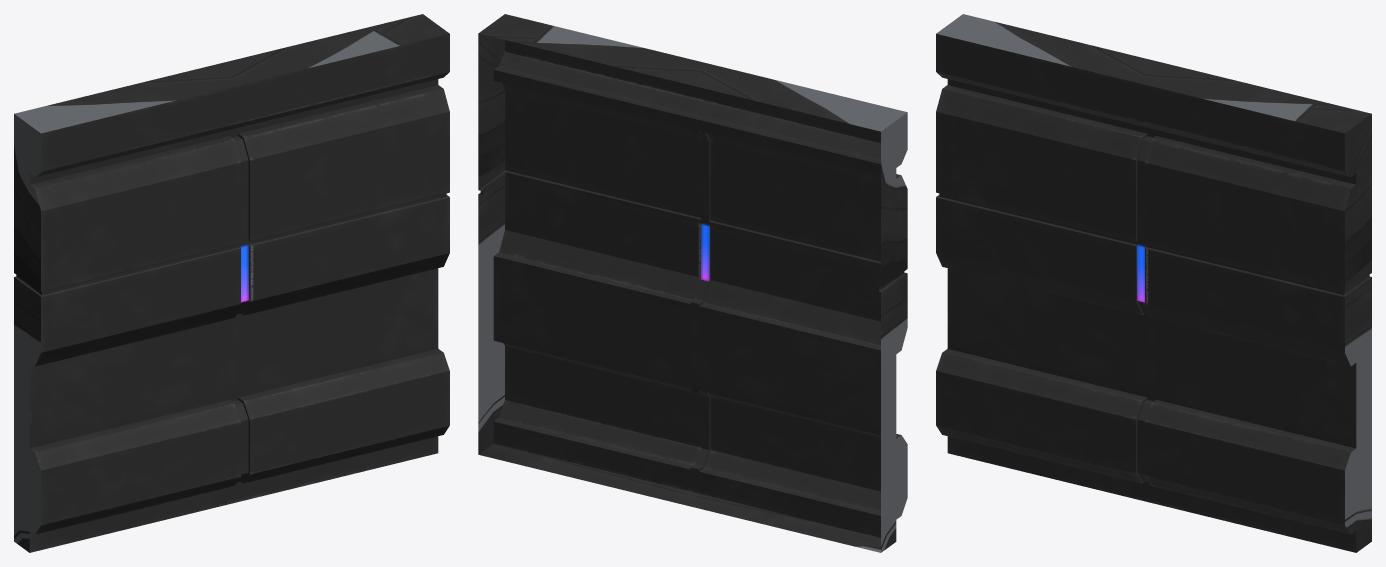
File: Wall_3.fbx
The picture shows the model from 3 angles, left to right: view 1: azimuth 30°, elevation 25°; view 2: azimuth 150°, elevation 25°; view 3: azimuth 330°, elevation 25°; orthographic projection.
Visible parts, largest first — view 1: Wall_3_L; view 2: Wall_3_L; view 3: Wall_3_L.
Part boxes in pixels (<box>): Wall_3_L: <box>14,14,449,552</box>; Wall_3_L: <box>478,14,907,552</box>; Wall_3_L: <box>936,14,1371,552</box>.
Bounding box in the file's own units: 640 × 640 × 73.22.
